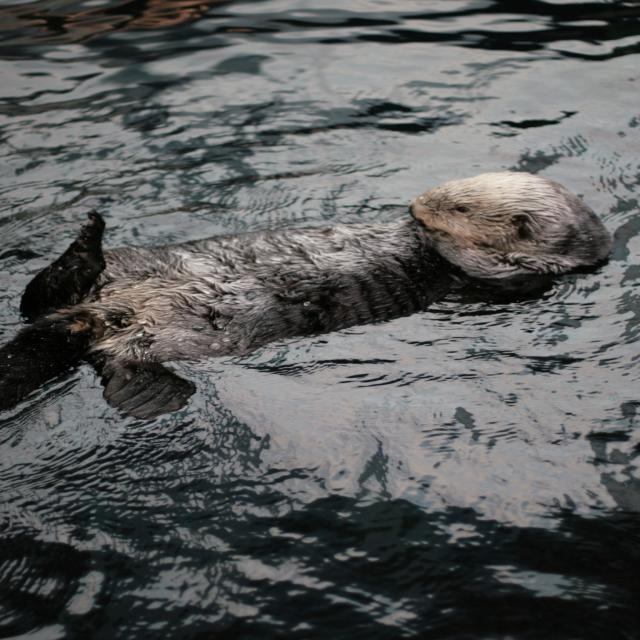otter: (22, 171, 613, 362)
